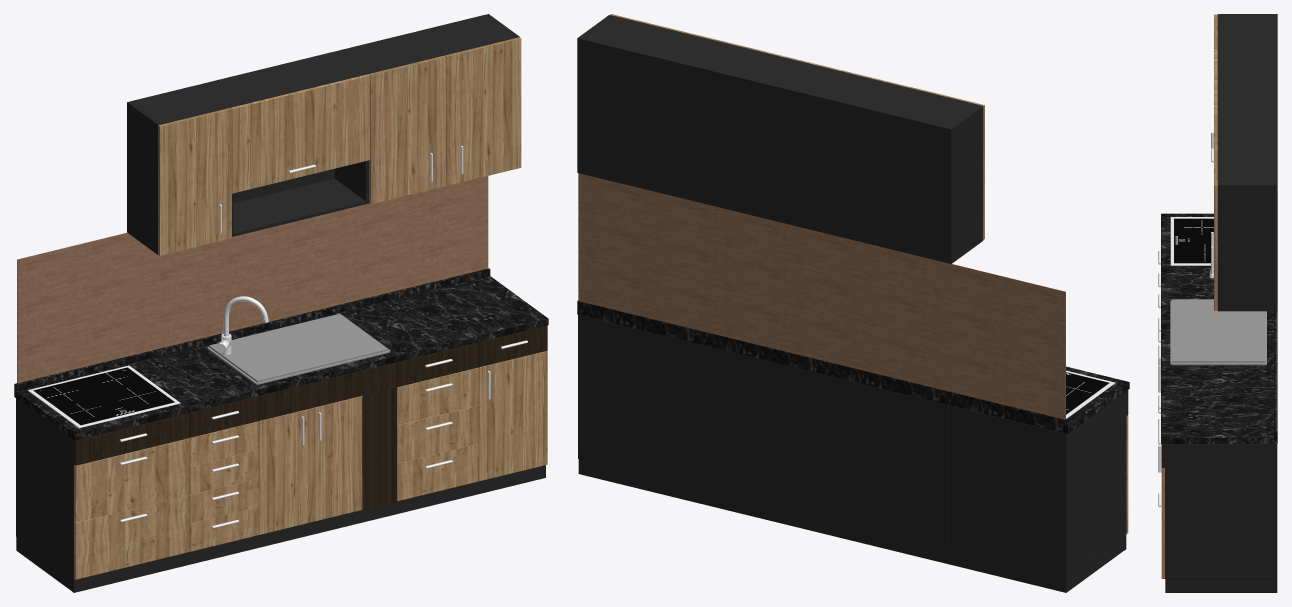
File: modern_wood_kitchen_set.glb
3 views of the same model, side by side, from view 1: azimuth 30°, elevation 25°; view 2: azimuth 150°, elevation 25°; view 3: azimuth 270°, elevation 25° (orthographic). The views are drawn at different scales.
Visible parts, largest first — view 1: back decor wall.001, top.001, cabinet_ground_40x82.032, cabinet_ground_40x82.028, cabinet_ground_40x82.019, cabinet_wall_40.007, cabinet_ground_40x82.027, cabinet_ground_40x82.026, cabinet_ground_40x82.029, cabinet_ground_40x82.020, cabinet_ground_40x82.030, cabinet_ground_40x82.021 (+14 smaller); view 2: back decor wall.001, cabinet_ground_60x82.005, cabinet_ground_40x82.030, cabinet_wall_40.007, cabinet_wall_40.008, cabinet_wall_40.005, cabinet_wall_40.006, cabinet_ground_60x82.004, cabinet_ground_40x82.017, bootom stand.001, top.back.001, top.001 (+1 smaller); view 3: cabinet_ground_60x82.004, top.001, cabinet_wall_40.006, sink FRANKE._booleanbox.001, cabinet_wall_40.007, cabinet_wall_40.005, cabinet_wall_40.008, Plane.006, bootom stand.001, cabinet_ground_40x82.026, sink FRANKE.001, top.back.001 (+4 smaller).
Part boxes in pixels (left/top/right/bottom): back decor wall.001: left=17, top=176, right=488, bottom=383; top.001: left=16, top=276, right=548, bottom=440; cabinet_ground_40x82.032: left=74, top=438, right=189, bottom=579; cabinet_ground_40x82.028: left=231, top=74, right=370, bottom=193; cabinet_ground_40x82.019: left=258, top=396, right=362, bottom=534; cabinet_wall_40.007: left=199, top=51, right=368, bottom=236; cabinet_ground_40x82.027: left=369, top=55, right=445, bottom=204; cabinet_ground_40x82.026: left=444, top=37, right=521, bottom=185; cabinet_ground_40x82.029: left=158, top=108, right=231, bottom=255; cabinet_ground_40x82.020: left=397, top=367, right=478, bottom=501; cabinet_ground_40x82.030: left=16, top=398, right=73, bottom=578; cabinet_ground_40x82.021: left=478, top=350, right=547, bottom=481; back decor wall.001: left=578, top=173, right=1065, bottom=419; cabinet_ground_60x82.005: left=649, top=332, right=876, bottom=531; cabinet_ground_40x82.030: left=948, top=391, right=1126, bottom=578; cabinet_wall_40.007: left=733, top=53, right=908, bottom=245; cabinet_wall_40.008: left=876, top=88, right=983, bottom=263; cabinet_wall_40.005: left=655, top=34, right=764, bottom=210; cabinet_wall_40.006: left=577, top=15, right=686, bottom=191; cabinet_ground_60x82.004: left=578, top=315, right=649, bottom=476; cabinet_ground_40x82.017: left=877, top=388, right=948, bottom=549; bootom stand.001: left=578, top=459, right=1126, bottom=592; top.back.001: left=577, top=300, right=1069, bottom=434; top.001: left=1066, top=366, right=1129, bottom=432; cabinet_ground_60x82.004: left=1165, top=444, right=1277, bottom=579; top.001: left=1161, top=213, right=1274, bottom=443; cabinet_wall_40.006: left=1217, top=149, right=1277, bottom=311; sink FRANKE._booleanbox.001: left=1171, top=299, right=1265, bottom=362; cabinet_wall_40.007: left=1217, top=48, right=1277, bottom=113; cabinet_wall_40.005: left=1217, top=113, right=1277, bottom=149; cabinet_wall_40.008: left=1217, top=14, right=1277, bottom=48; Plane.006: left=1174, top=218, right=1213, bottom=263; bootom stand.001: left=1165, top=579, right=1277, bottom=592; cabinet_ground_40x82.026: left=1214, top=150, right=1217, bottom=310; sink FRANKE.001: left=1170, top=300, right=1266, bottom=365; top.back.001: left=1274, top=311, right=1277, bottom=444.
Size of the model in its own units: 2.75 by 2.33 by 0.6157.
12 materials, 6 textured.
